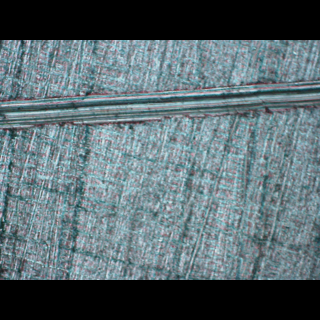d: (0, 69, 319, 133)
